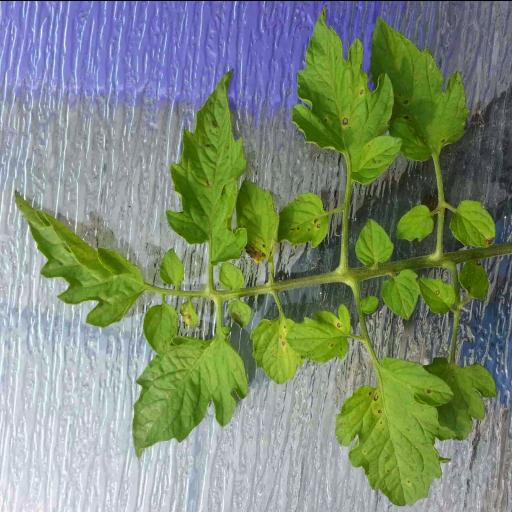Healthy: (132, 333, 248, 460), (378, 268, 420, 320), (354, 216, 394, 266), (394, 202, 434, 242)
Septoria: (290, 4, 402, 184), (332, 354, 455, 506), (164, 66, 248, 264), (370, 14, 469, 162), (282, 300, 352, 363), (232, 178, 280, 264), (250, 308, 298, 384), (270, 190, 330, 250), (418, 276, 456, 314), (458, 258, 490, 300)
